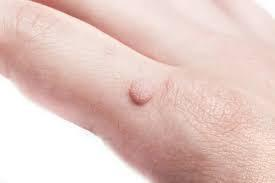flat_wart: (128, 61, 164, 135)
